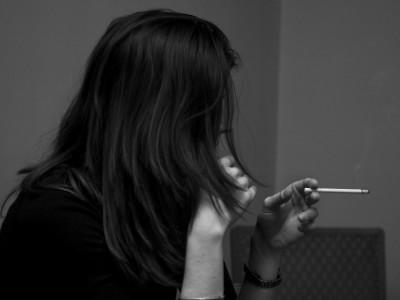smoke: (305, 186, 370, 196)
